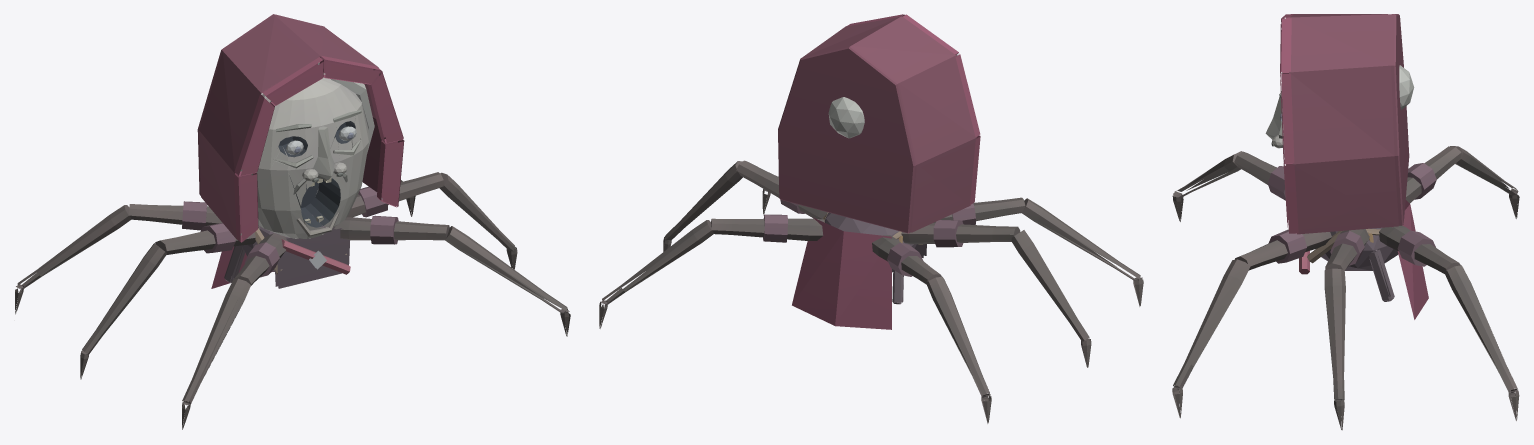
File: SpiderMomAssassin.glb
3 renders of one model, left to right at view 1: azimuth 30°, elevation 25°; view 2: azimuth 150°, elevation 25°; view 3: azimuth 270°, elevation 25°, orthographic. The views are drawn at different scales.
Visible parts, largest first — view 1: Head, Body, ArmL, LegR, ArmR; view 2: Head, Body, LegL, LegR, ArmR; view 3: Head, Body, ArmL, LegL, LegR, ArmR.
Part boxes in pixels (<box>): Head: <box>197,14,404,242</box>; Body: <box>80,172,517,379</box>; ArmL: <box>334,215,570,336</box>; LegR: <box>15,201,222,314</box>; ArmR: <box>182,233,287,429</box>; Head: <box>778,14,980,233</box>; Body: <box>663,160,1091,367</box>; LegL: <box>599,214,824,328</box>; LegR: <box>872,235,991,423</box>; ArmR: <box>933,197,1143,306</box>; Head: <box>1265,14,1414,234</box>; Body: <box>1299,200,1428,430</box>; ArmL: <box>1172,229,1331,418</box>; LegL: <box>1379,225,1519,420</box>; LegR: <box>1405,146,1519,218</box>; ArmR: <box>1172,151,1285,221</box>.
Bounding box in the file's own units: 6.21 × 4.09 × 4.11.
